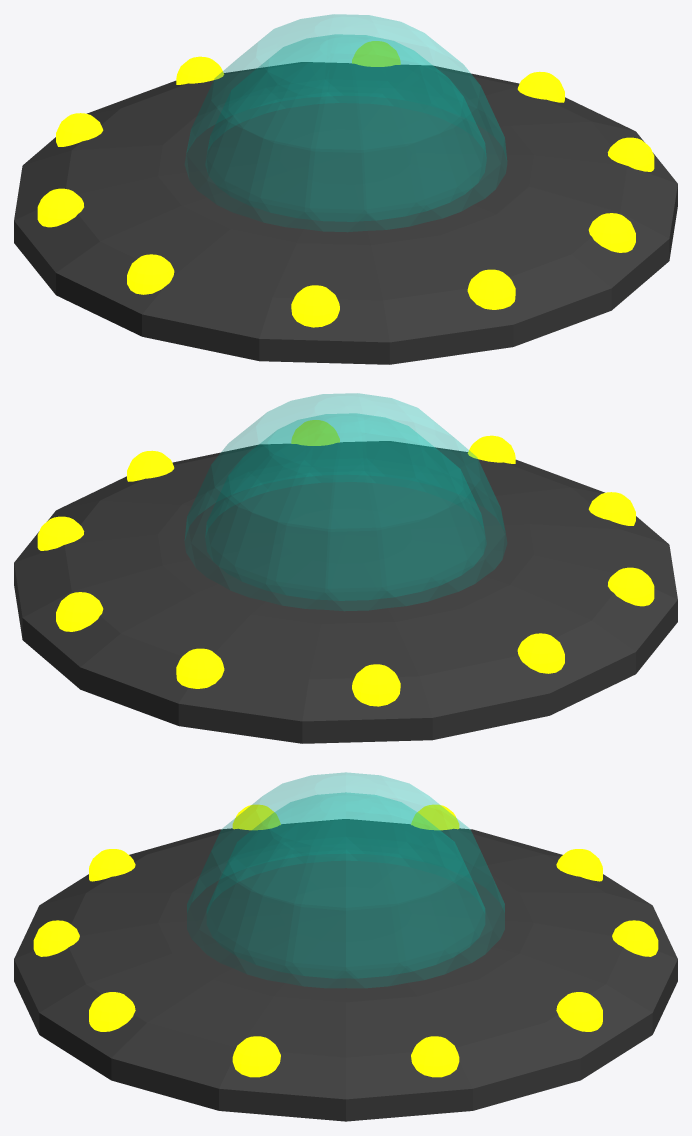
Rendered from Spaceship.fbx.
3 views of the same model, one above another, from view 1: azimuth 30°, elevation 25°; view 2: azimuth 150°, elevation 25°; view 3: azimuth 270°, elevation 25° (orthographic).
Visible parts, largest first — view 1: Sphere; view 2: Sphere; view 3: Sphere.
Part boxes in pixels (x1=…): Sphere: x1=14, y1=14, x2=677, y2=364; Sphere: x1=14, y1=393, x2=677, y2=743; Sphere: x1=14, y1=772, x2=677, y2=1121.
Bounding box in the file's own units: 620 × 249 × 620.
